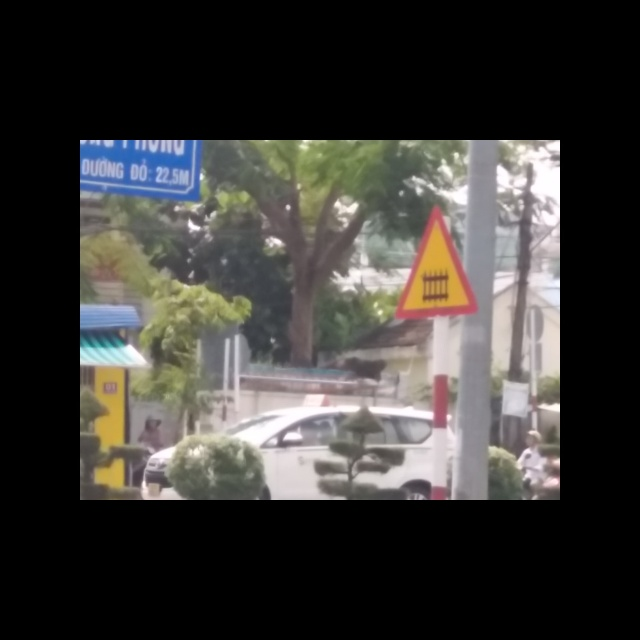Giao nhau với đường sắt có rào chắn: (393, 202, 484, 317)
